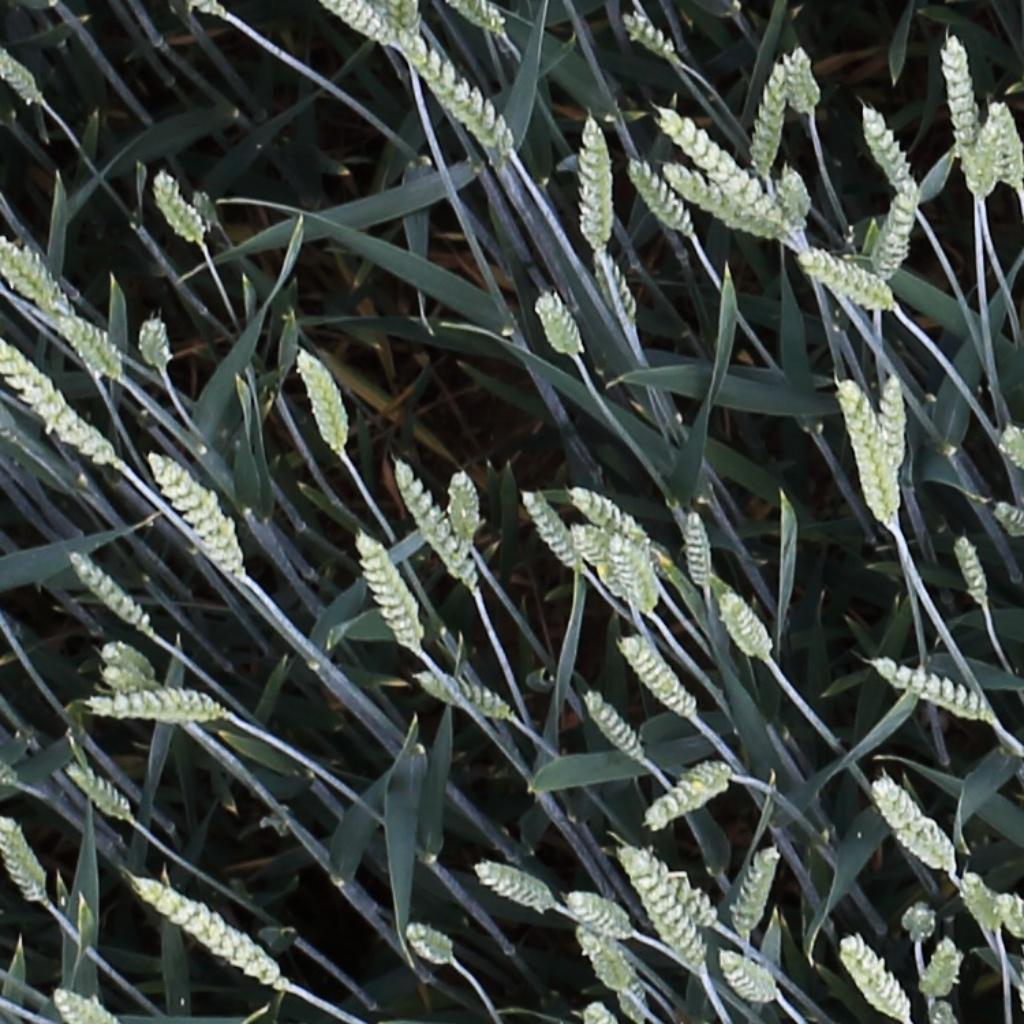0-0: (132, 876, 292, 996), (0, 338, 128, 467), (655, 105, 787, 226), (397, 34, 516, 159), (601, 830, 715, 958), (146, 450, 247, 578), (389, 457, 483, 593), (860, 640, 993, 722), (839, 375, 902, 527), (872, 778, 959, 876), (353, 529, 423, 649), (65, 547, 157, 637), (669, 158, 777, 230), (785, 240, 897, 309), (0, 228, 81, 322), (619, 633, 700, 723), (839, 932, 914, 1022), (626, 152, 701, 238), (570, 114, 619, 245), (860, 96, 920, 202), (408, 660, 512, 720), (647, 761, 734, 832), (294, 345, 352, 451), (90, 679, 222, 724), (520, 483, 585, 574), (581, 688, 652, 770), (570, 486, 652, 551), (750, 58, 793, 180), (572, 522, 634, 606), (148, 166, 210, 248), (873, 182, 922, 285), (585, 924, 649, 1002), (54, 311, 124, 382), (715, 587, 778, 664), (735, 842, 783, 942), (617, 542, 670, 630), (942, 32, 977, 158), (0, 816, 47, 909), (591, 244, 643, 326), (961, 111, 1003, 206), (65, 765, 132, 823), (317, 0, 399, 47), (535, 286, 587, 360), (985, 92, 1022, 192), (475, 864, 557, 909), (719, 948, 782, 1004), (951, 531, 993, 613), (958, 868, 1006, 936), (0, 39, 46, 109), (877, 370, 909, 470), (567, 894, 637, 939), (621, 10, 681, 61), (920, 933, 962, 1004), (684, 505, 715, 593), (780, 157, 815, 232), (789, 42, 821, 121), (449, 465, 481, 544), (137, 308, 172, 375), (404, 922, 457, 965), (50, 985, 107, 1022), (102, 630, 156, 668), (456, 1, 506, 35), (993, 891, 1024, 944), (906, 899, 936, 951), (996, 423, 1024, 477), (390, 0, 424, 44), (926, 994, 974, 1024), (101, 670, 148, 700), (991, 499, 1024, 536), (617, 985, 652, 1019), (581, 998, 617, 1024), (0, 748, 19, 789)
